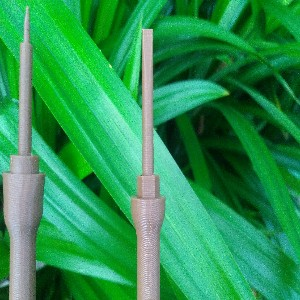obeng: (129, 26, 167, 300)
solder: (1, 5, 46, 300)
